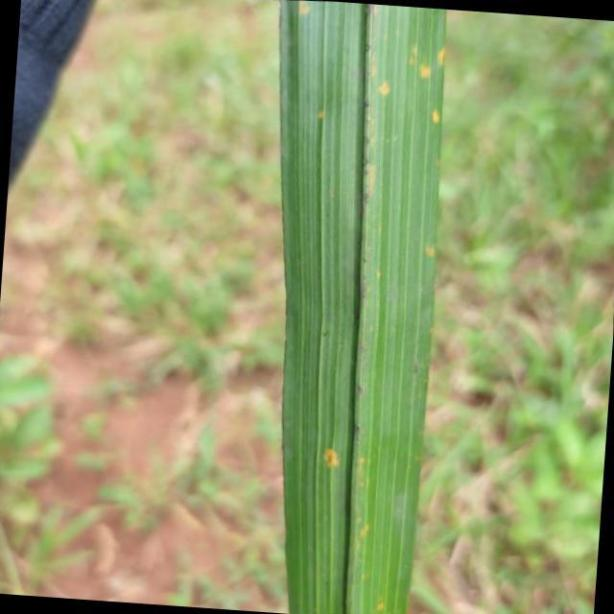Kalium: (277, 0, 449, 614)
